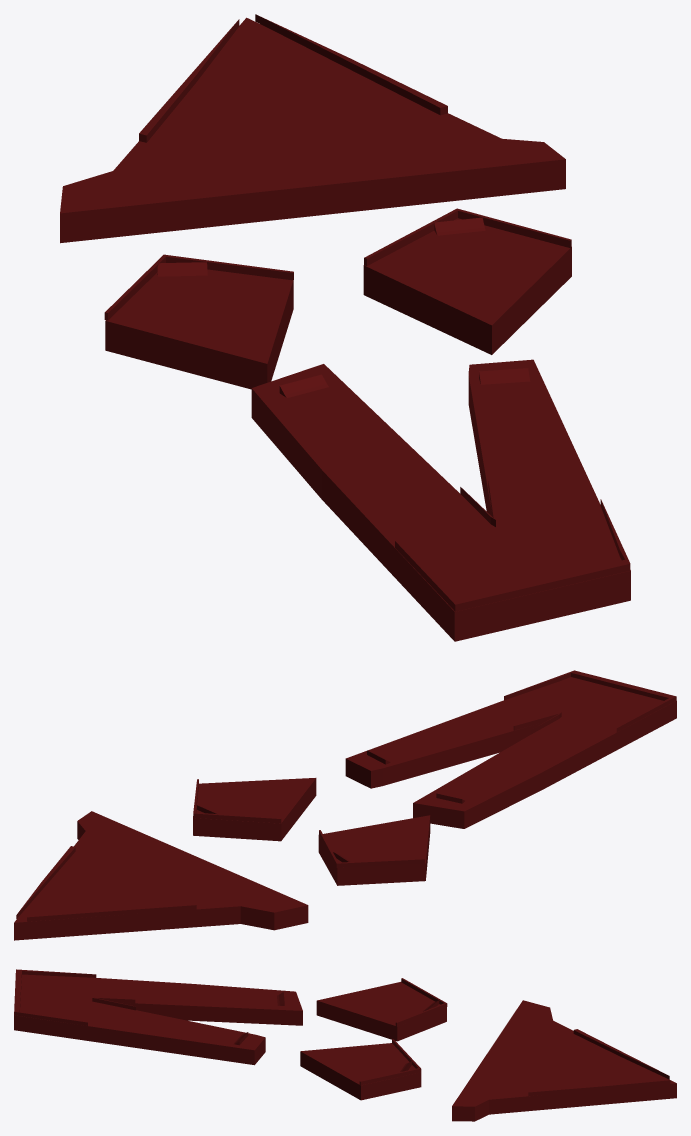
Rendered from Base Floor Map#3.fbx.
The picture shows the model from 3 angles, top to bottom: view 1: azimuth 30°, elevation 25°; view 2: azimuth 150°, elevation 25°; view 3: azimuth 270°, elevation 25°; orthographic projection. The views are drawn at different scales.
Parts seen in each view (by area): view 1: Hat_Landing_Endpoint, Starting_Area, Diamond_Landing_Right, Diamond_Landing_Left, Starting_Area_Back_Guard_Rail, Hat_Wall_Right, Daimond_Right_Top_Gaurd_Rail, Diamond_Left_Top_Gaurd_Rail, Hat_Wall_Left; view 2: Starting_Area, Hat_Landing_Endpoint, Diamond_Landing_Right, Diamond_Landing_Left, Starting_Area_Back_Guard_Rail, Hat_Wall_Left, Diamond_Left_Top_Gaurd_Rail, Daimond_Right_Top_Gaurd_Rail, Hat_Wall_Right; view 3: Starting_Area, Hat_Landing_Endpoint, Diamond_Landing_Left, Diamond_Landing_Right, Starting_Area_Back_Guard_Rail, Hat_Wall_Right, Hat_Wall_Left, Diamond_Left_Top_Gaurd_Rail, Daimond_Right_Top_Gaurd_Rail, Starting_Area_Channel_Gaurd_Rail.
Part boxes in pixels (x1=…): Hat_Landing_Endpoint: x1=60, y1=17, x2=565, y2=243; Starting_Area: x1=251, y1=359, x2=630, y2=641; Diamond_Landing_Right: x1=363, y1=218, x2=571, y2=354; Diamond_Landing_Left: x1=105, y1=269, x2=293, y2=389; Starting_Area_Back_Guard_Rail: x1=395, y1=499, x2=630, y2=611; Hat_Wall_Right: x1=255, y1=14, x2=447, y2=115; Daimond_Right_Top_Gaurd_Rail: x1=364, y1=208, x2=571, y2=265; Diamond_Left_Top_Gaurd_Rail: x1=104, y1=254, x2=293, y2=320; Hat_Wall_Left: x1=139, y1=19, x2=239, y2=142; Starting_Area: x1=345, y1=677, x2=676, y2=828; Hat_Landing_Endpoint: x1=14, y1=811, x2=308, y2=940; Diamond_Landing_Right: x1=193, y1=778, x2=316, y2=841; Diamond_Landing_Left: x1=318, y1=815, x2=430, y2=885; Starting_Area_Back_Guard_Rail: x1=504, y1=670, x2=676, y2=732; Hat_Wall_Left: x1=27, y1=903, x2=196, y2=921; Diamond_Left_Top_Gaurd_Rail: x1=319, y1=830, x2=424, y2=867; Daimond_Right_Top_Gaurd_Rail: x1=193, y1=779, x2=281, y2=823; Hat_Wall_Right: x1=16, y1=846, x2=75, y2=918; Starting_Area: x1=14, y1=974, x2=302, y2=1065; Hat_Landing_Endpoint: x1=452, y1=1000, x2=676, y2=1121; Diamond_Landing_Left: x1=316, y1=982, x2=446, y2=1041; Diamond_Landing_Right: x1=300, y1=1043, x2=421, y2=1100; Starting_Area_Back_Guard_Rail: x1=14, y1=969, x2=96, y2=1025; Hat_Wall_Right: x1=528, y1=1080, x2=670, y2=1096; Hat_Wall_Left: x1=573, y1=1029, x2=669, y2=1079; Diamond_Left_Top_Gaurd_Rail: x1=395, y1=978, x2=447, y2=1026; Daimond_Right_Top_Gaurd_Rail: x1=359, y1=1039, x2=421, y2=1085; Starting_Area_Channel_Gaurd_Rail: x1=92, y1=997, x2=135, y2=1010.
Size of the model in its own units: 1927 by 126 by 4035.
